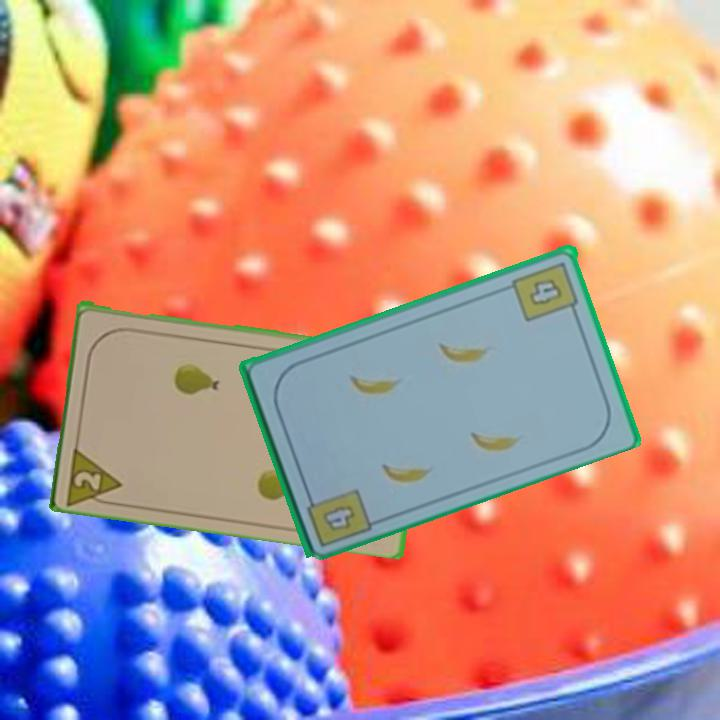2p: (63, 440, 127, 509)
4b: (509, 257, 582, 324), (301, 484, 374, 550)
